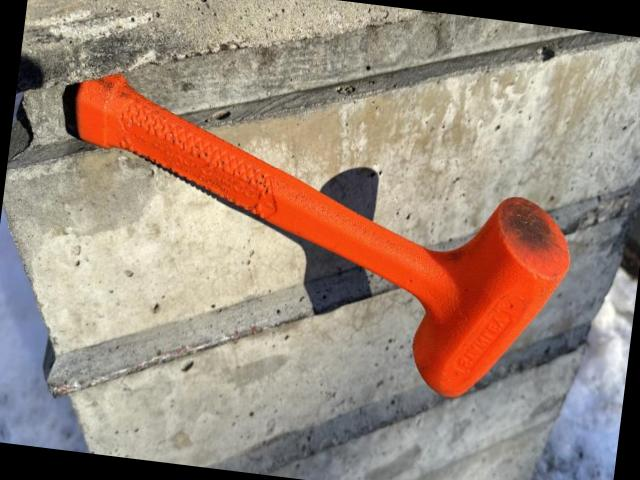hammer: (48, 70, 588, 410)
